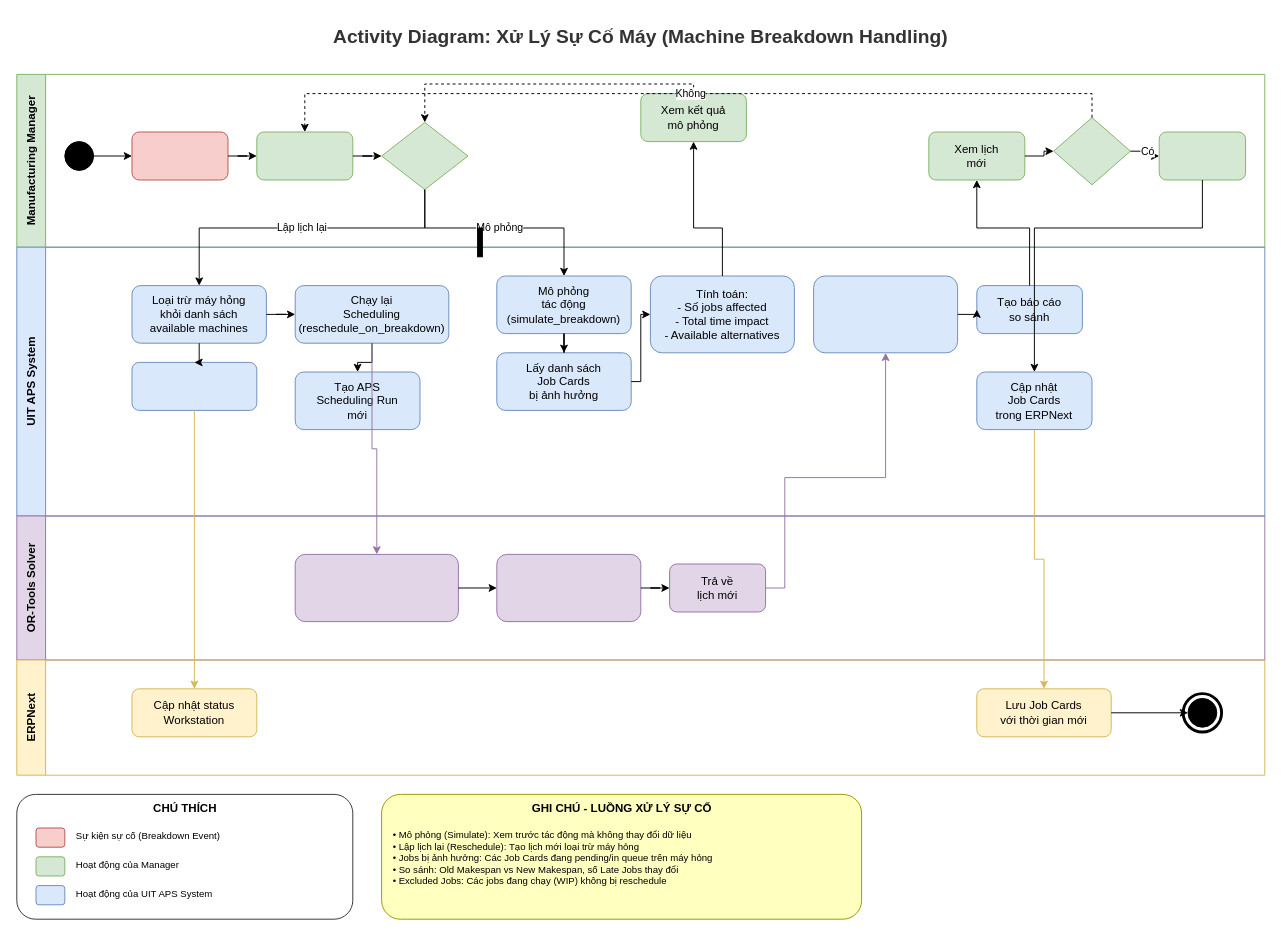
Some shapes in this 1282 by 936 pixel diagram are drawn without their labels. Each missing label, with the centre of its shape:
"Chấp nhận?" goes at point 1091,151.
"Chọn máy bị hỏng" goes at point 304,155.
"Giải lại bài toán với constraints mới (không có máy hỏng)" goes at point 376,587.
"Hành động?" goes at point 424,155.
"Phát hiện sự cố máy" goes at point 179,155.
"So sánh kết quả: - Old vs New Makespan - Late Jobs change - Improvement %" goes at point 885,314.
"Tối ưu hóa phân bổ jobs sang máy thay thế" goes at point 568,587.
"Áp dụng lịch mới" goes at point 1202,155.
"Đánh dấu máy status: Maintenance" goes at point 194,385.
